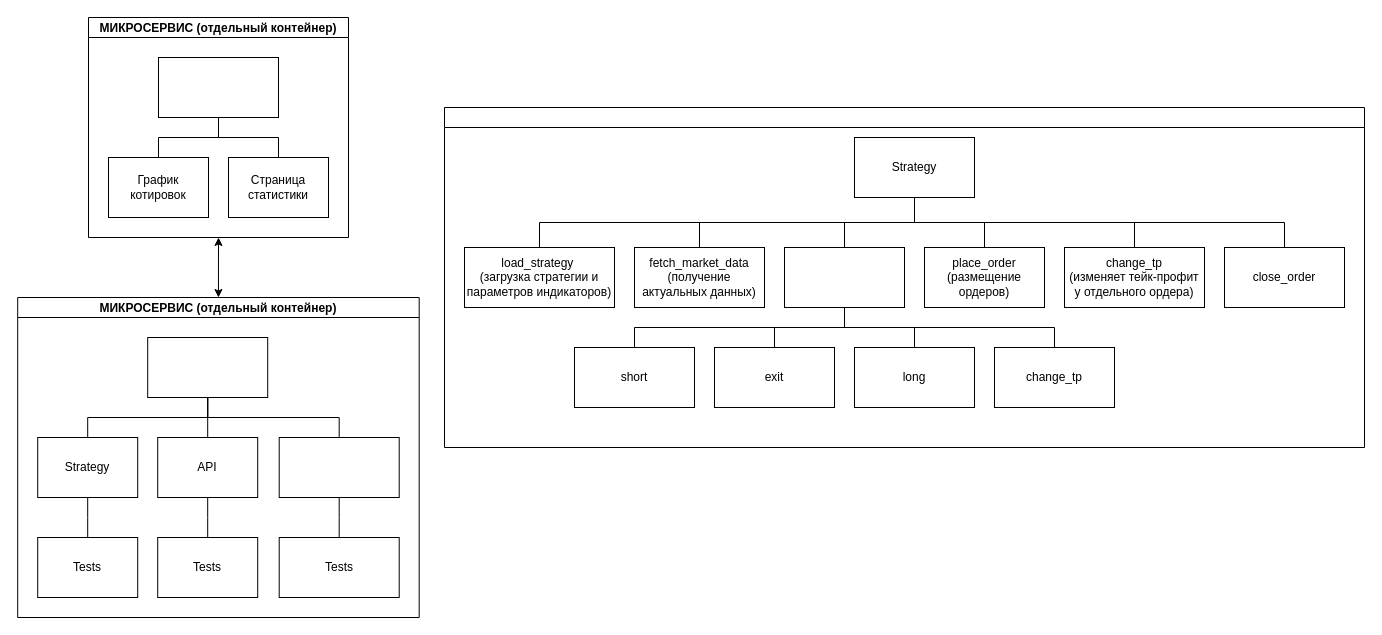
Image size: 1382x635. Some labels were removed from this diagram. The shapes that lost their labels are listed below. From the top down, each one's box as (x1, y1, x2, y2) in pixels, then its label:
(158, 56, 278, 118): Frontend
(784, 246, 904, 308): check_signals (проверка сигналов)
(444, 106, 1364, 448): РОДИТЕЛЬСКИЙ КЛАСС
(147, 336, 268, 398): Backend
(278, 436, 399, 498): Data base
